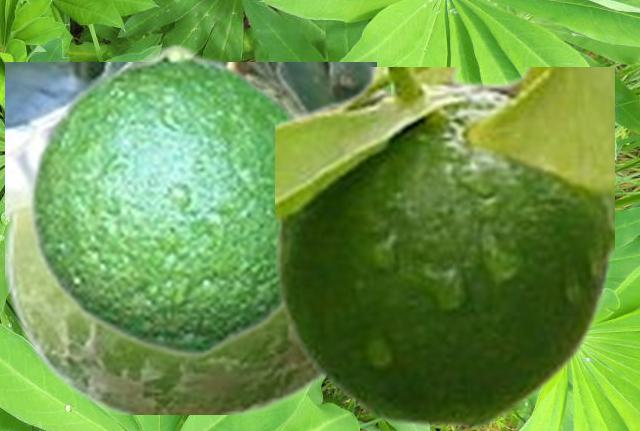dalandan: (5, 62, 375, 413), (275, 67, 613, 427), (25, 42, 301, 358)
